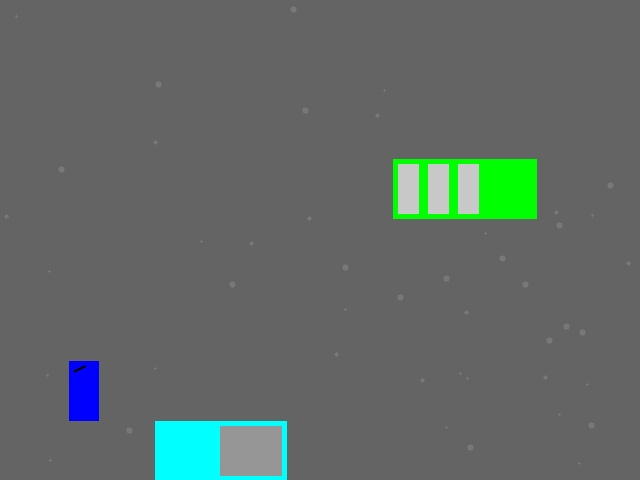bus: (393, 159, 536, 218)
motorcycle: (69, 361, 98, 420)
truck: (155, 421, 286, 480)
